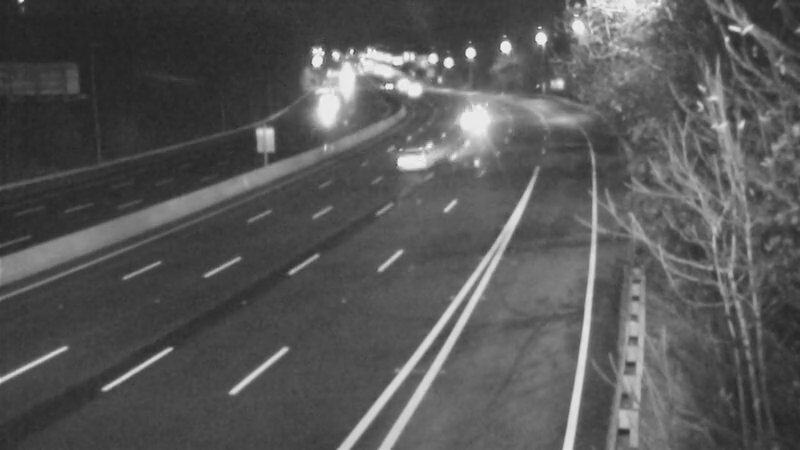vehicle: (374, 125, 454, 205), (398, 66, 448, 116), (445, 92, 495, 142), (299, 86, 349, 136)
